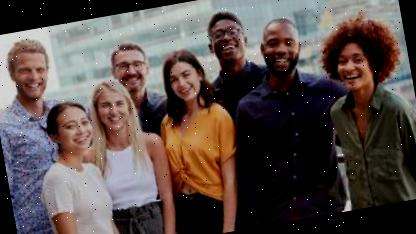person: (211, 10, 358, 229), (305, 4, 416, 212), (148, 41, 253, 234), (84, 69, 183, 234), (27, 92, 124, 234), (0, 30, 71, 186), (195, 0, 264, 89), (104, 34, 158, 94)
